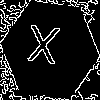X: (25, 25, 61, 74)
